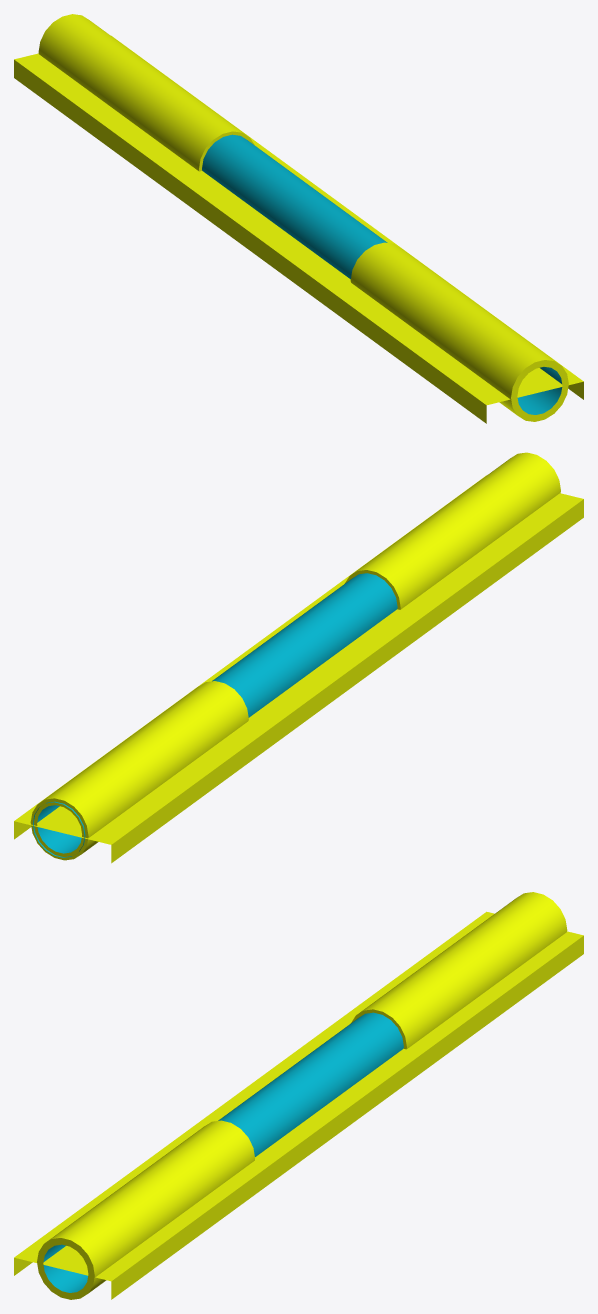
File: env_st_energie_droit.fbx
The picture shows the model from 3 angles, top to bottom: view 1: azimuth 30°, elevation 25°; view 2: azimuth 150°, elevation 25°; view 3: azimuth 330°, elevation 25°; orthographic projection.
Parts seen in each view (by area): view 1: Energie Droit; view 2: Energie Droit; view 3: Energie Droit.
Part boxes in pixels (x1,y1,x2,y2): Energie Droit: (14,14,583,423); Energie Droit: (14,452,583,863); Energie Droit: (14,892,583,1299).
Size of the model in its own units: 18.32 by 10.73 by 154.
